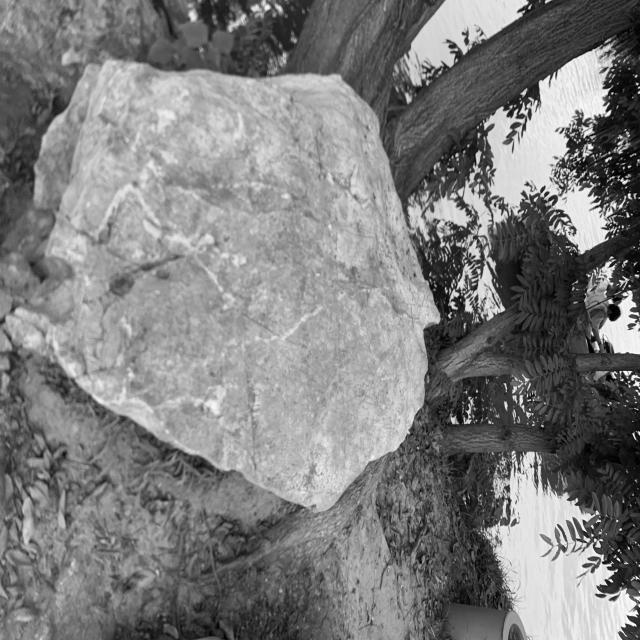Stone: (6, 61, 438, 510)
